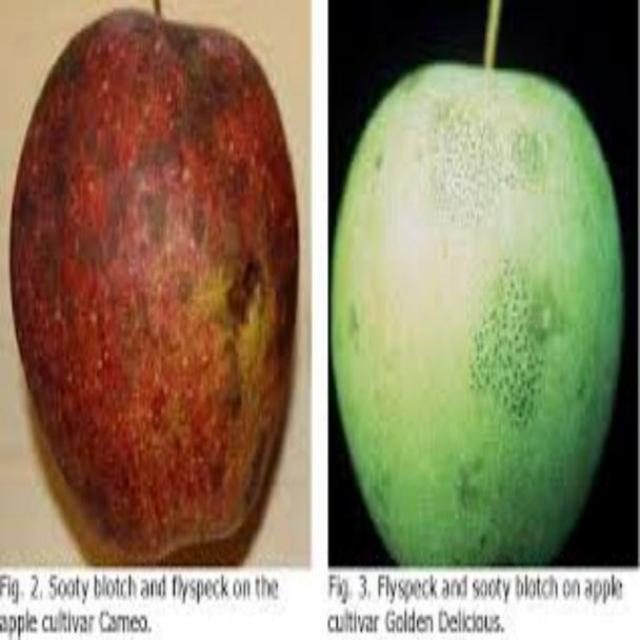BLOTCH: (339, 3, 618, 564), (3, 7, 281, 549)
